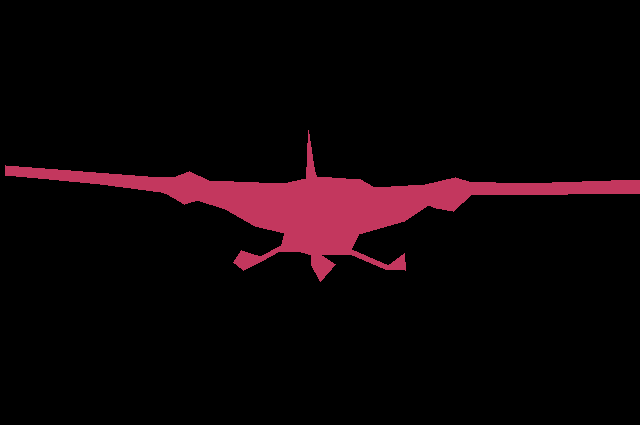Airplane: (5, 130, 640, 281)
